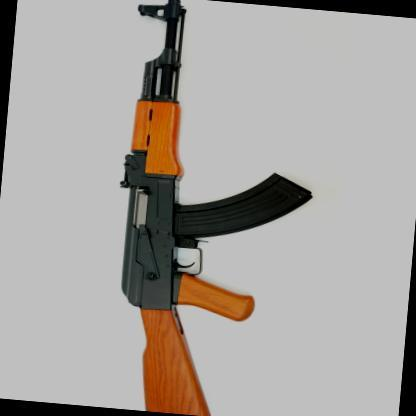rifle: (73, 0, 338, 416)
